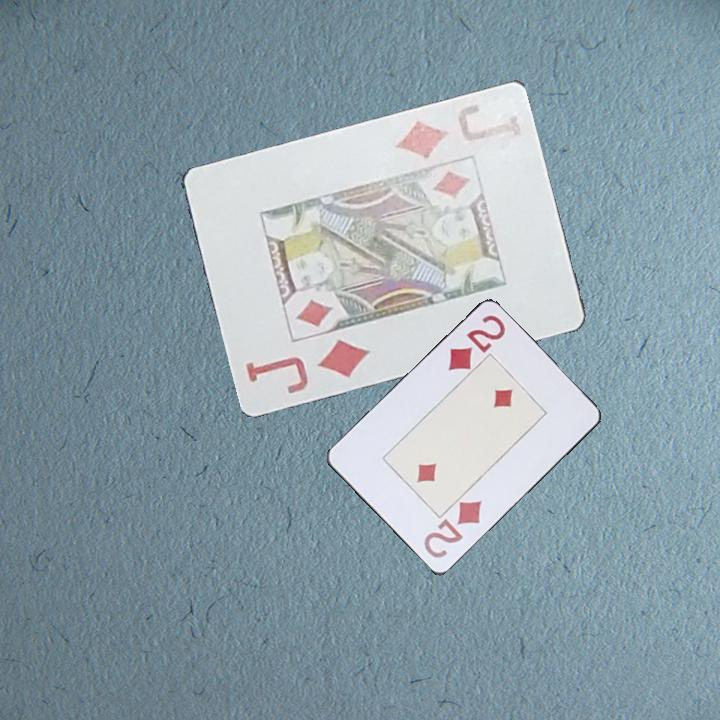2d: (419, 497, 487, 562), (444, 312, 509, 375)
Jd: (392, 99, 525, 161), (242, 334, 374, 396)
